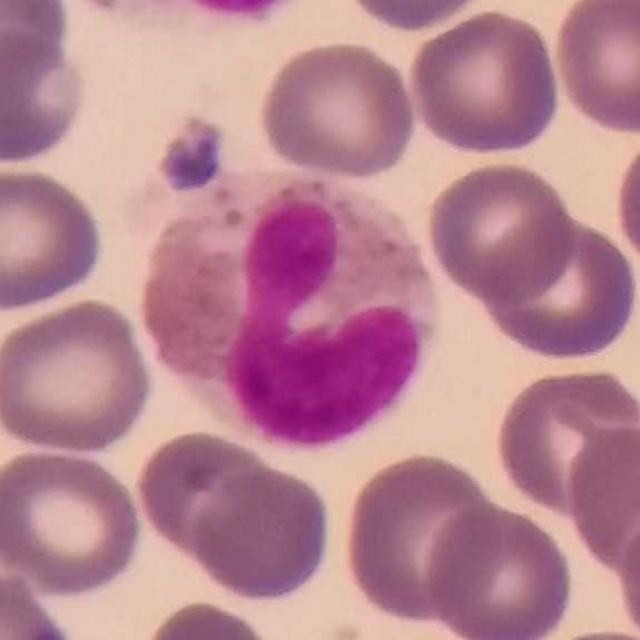eosino: (142, 158, 444, 452)
